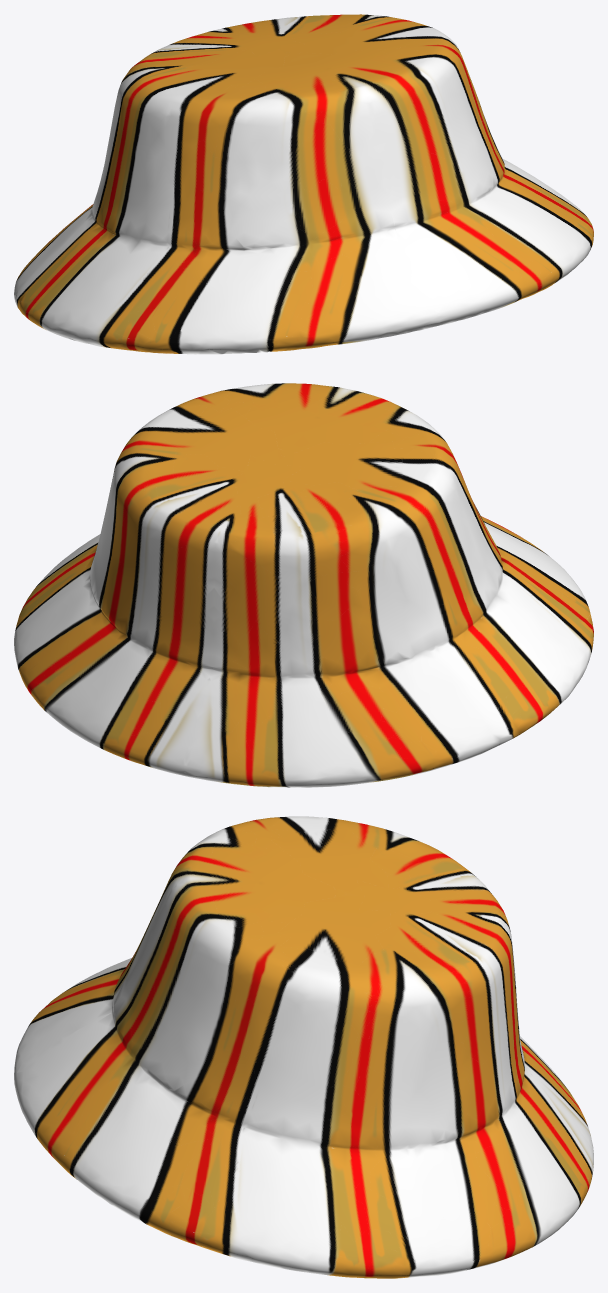
File: Bucket-Snow-Tan.glb
3 views of the same model, one above another, from view 1: azimuth 30°, elevation 25°; view 2: azimuth 150°, elevation 25°; view 3: azimuth 270°, elevation 25° (orthographic). The views are drawn at different scales.
Parts seen in each view (by area): view 1: Bucket-Snow-Tan; view 2: Bucket-Snow-Tan; view 3: Bucket-Snow-Tan.
Part boxes in pixels (x1,y1,x2,y2): Bucket-Snow-Tan: [14, 14, 593, 354]; Bucket-Snow-Tan: [14, 383, 593, 787]; Bucket-Snow-Tan: [14, 816, 593, 1278].
Bounding box in the file's own units: 0.7046 × 0.336 × 0.5977.
Materials: 1 (1 with a texture image).
